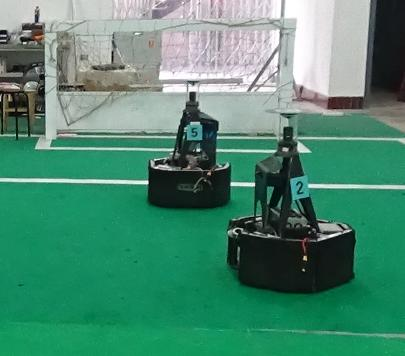robot: (223, 104, 361, 294), (144, 76, 233, 212)
